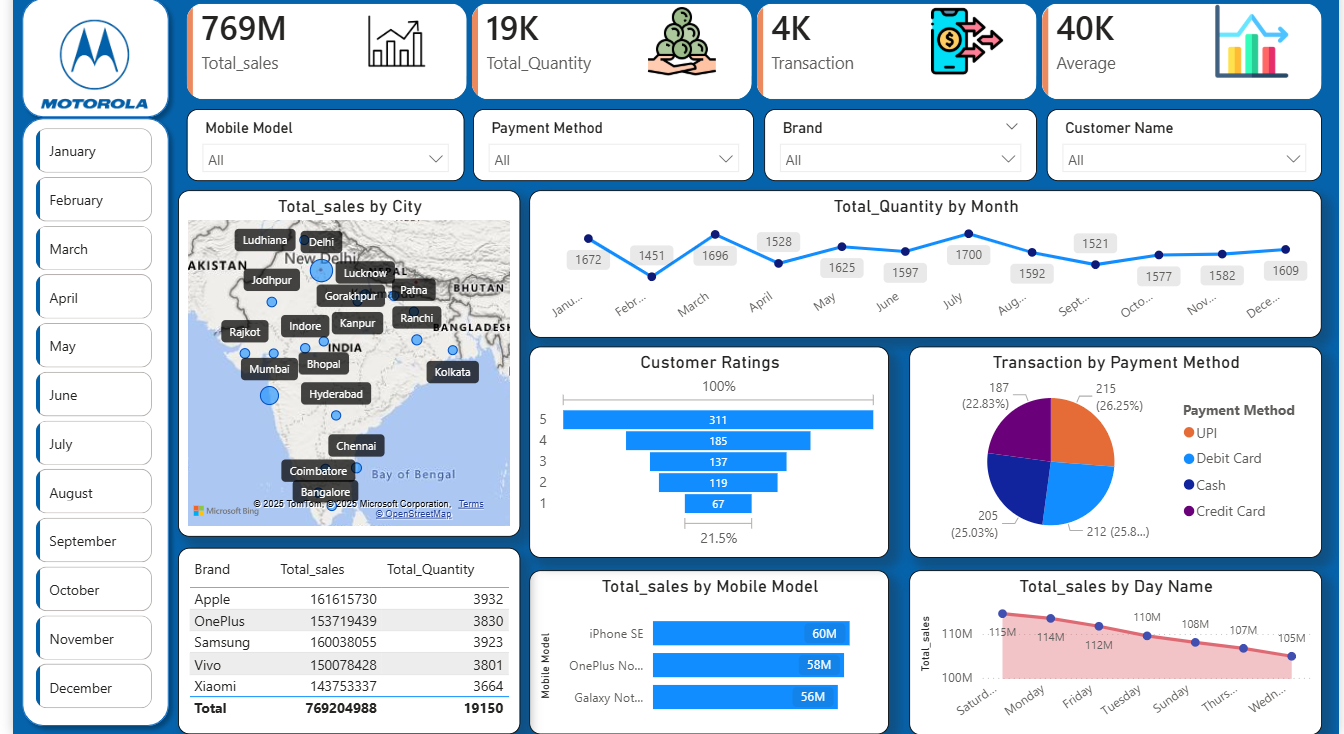

The page's visual inventory and layout, read from the dashboard file:
{"tool":"powerbi","page":{"name":"Page 1","canvas":[1280,720],"ordinal":0},"visuals":[{"type":"shape","box":[0,0,159.3,132.7],"z":0},{"type":"image","box":[22.9,20.5,111,103.8],"z":1000},{"type":"shape","box":[0,115.8,159.3,604.4],"z":2000},{"type":"advancedSlicerVisual","fields":{"Values":["Sales_Data.Date.Variation.Date Hierarchy.Month"]},"box":[18.1,130.3,120.6,576.7],"z":3000},{"type":"cardVisual","fields":{"Data":["Sales_Data.Total_sales","Sales_Data.Total_Quantity","Sales_Data.Transaction","Sales_Data.Average"]},"box":[150.8,0,1129.2,124.3],"z":4000},{"type":"map","fields":{"Size":["Sales_Data.Total_sales"],"Category":["Sales_Data.City"]},"box":[159.3,115.8,330.6,412.6],"z":5000},{"type":"lineChart","fields":{"Category":["Sales_Data.Date.Variation.Date Hierarchy.Month","Sales_Data.Date.Variation.Date Hierarchy.Day"],"Y":["Sales_Data.Total_Quantity"]},"box":[498.3,194.2,764.9,142.4],"z":6000},{"type":"clusteredBarChart","fields":{"Category":["Sales_Data.Mobile Model"],"Y":["Sales_Data.Total_sales"]},"box":[498.3,561,347.5,158],"z":7000},{"type":"pieChart","fields":{"Category":["Sales_Data.Payment Method"],"Y":["Sales_Data.Transaction"]},"box":[865,345,398.1,203.9],"z":8000},{"type":"funnel","title":" Customer Ratings","fields":{"Category":["Sales_Data.Customer Ratings"],"Y":["CountNonNull(Sales_Data.Customer Ratings)"]},"box":[498.3,345,347.5,203.9],"z":9000},{"type":"areaChart","fields":{"Category":["Sales_Data.Day Name"],"Y":["Sales_Data.Total_sales"]},"box":[865,561,398.1,159.3],"z":10000},{"type":"tableEx","fields":{"Values":["Sales_Data.Brand","Sales_Data.Total_sales","Sales_Data.Total_Quantity"]},"box":[159.3,539.3,330.6,179.8],"z":11000},{"type":"actionButton","box":[0,0,100,40],"z":12000},{"type":"slicer","fields":{"Values":["Sales_Data.Mobile Model"]},"box":[498.3,115.8,258.2,70],"z":13000},{"type":"slicer","fields":{"Values":["Sales_Data.Brand"]},"box":[764.9,115.8,246.1,70],"z":15000},{"type":"slicer","fields":{"Values":["Sales_Data.Customer Name"]},"box":[1019.4,115.8,243.7,70],"z":16000}]}

Visuals, with their boxes in screenshot pixels (x1, y1, x2, y2), scaled from the page's 1280x720 canvas onto the 1344x734 screenshot:
shape: (0, 0, 167, 135)
image: (24, 21, 141, 127)
shape: (0, 118, 167, 733)
advancedSlicerVisual - Sales_Data.Date.Variation.Date Hierarchy.Month: (19, 133, 146, 721)
cardVisual - Sales_Data.Total_sales x Sales_Data.Total_Quantity: (158, 0, 1343, 127)
map - Sales_Data.Total_sales x Sales_Data.City: (167, 118, 514, 539)
lineChart - Sales_Data.Date.Variation.Date Hierarchy.Month x Sales_Data.Date.Variation.Date Hierarchy.Day: (523, 198, 1326, 343)
clusteredBarChart - Sales_Data.Mobile Model x Sales_Data.Total_sales: (523, 572, 888, 733)
pieChart - Sales_Data.Payment Method x Sales_Data.Transaction: (908, 352, 1326, 560)
" Customer Ratings" funnel: (523, 352, 888, 560)
areaChart - Sales_Data.Day Name x Sales_Data.Total_sales: (908, 572, 1326, 733)
tableEx - Sales_Data.Brand x Sales_Data.Total_sales: (167, 550, 514, 733)
actionButton: (0, 0, 105, 41)
slicer - Sales_Data.Mobile Model: (523, 118, 794, 189)
slicer - Sales_Data.Brand: (803, 118, 1062, 189)
slicer - Sales_Data.Customer Name: (1070, 118, 1326, 189)
